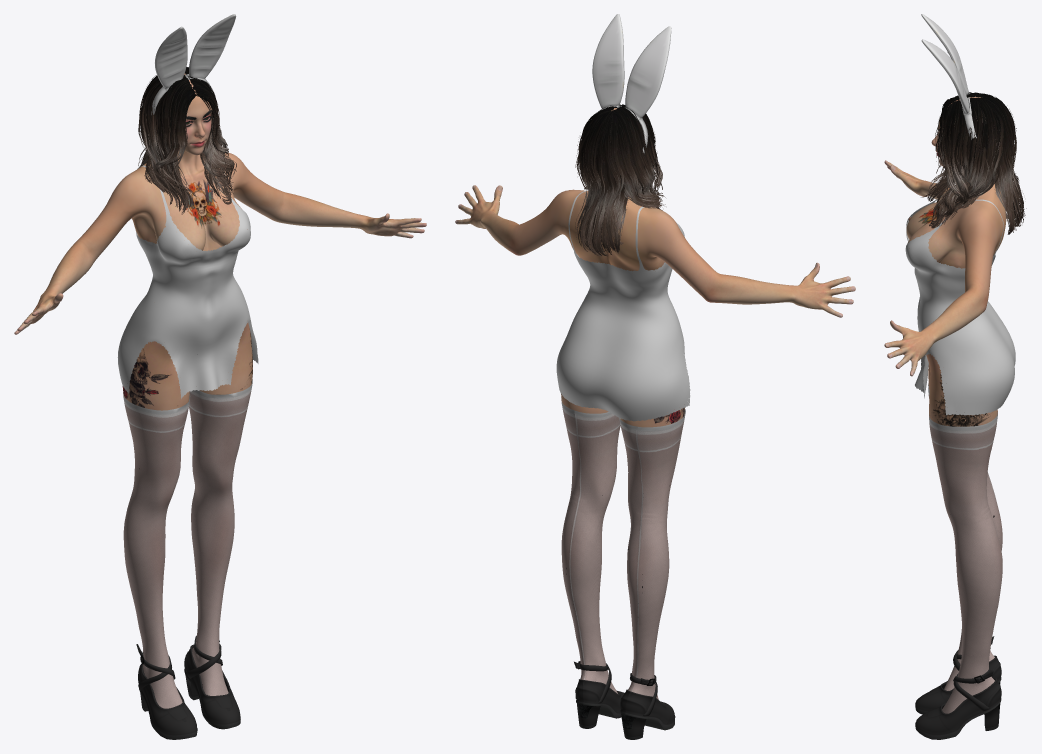
The model's file is The Girl .obj.
3 renders of one model, left to right at view 1: azimuth 30°, elevation 25°; view 2: azimuth 150°, elevation 25°; view 3: azimuth 270°, elevation 25°, orthographic. The views are drawn at different scales.
Visible parts, largest first — view 1: sock, body, Dress, hair, bunny_ear; view 2: sock, Dress, body, hair, bunny_ear; view 3: sock, body, Dress, hair, bunny_ear.
Part boxes in pixels (x1,y1,x2,y2): sock: (123, 379, 252, 739); body: (14, 73, 426, 684); Dress: (117, 165, 258, 398); hair: (138, 67, 236, 214); bunny_ear: (151, 14, 236, 114); sock: (561, 398, 685, 739); Dress: (556, 190, 690, 421); body: (455, 108, 855, 587); hair: (575, 104, 665, 256); bunny_ear: (592, 14, 671, 153); sock: (915, 383, 1002, 739); body: (884, 96, 1006, 517); Dress: (905, 191, 1015, 415); hair: (921, 92, 1026, 234); bunny_ear: (921, 14, 976, 139).
Bounding box in the file's own units: 2.03 × 3.41 × 0.6361.
Materials: 8 (6 with a texture image).
